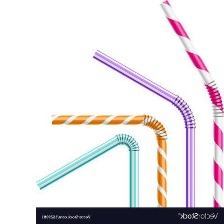drinking_straw: (88, 46, 199, 208), (157, 0, 224, 209), (46, 110, 172, 208), (32, 130, 142, 208)
